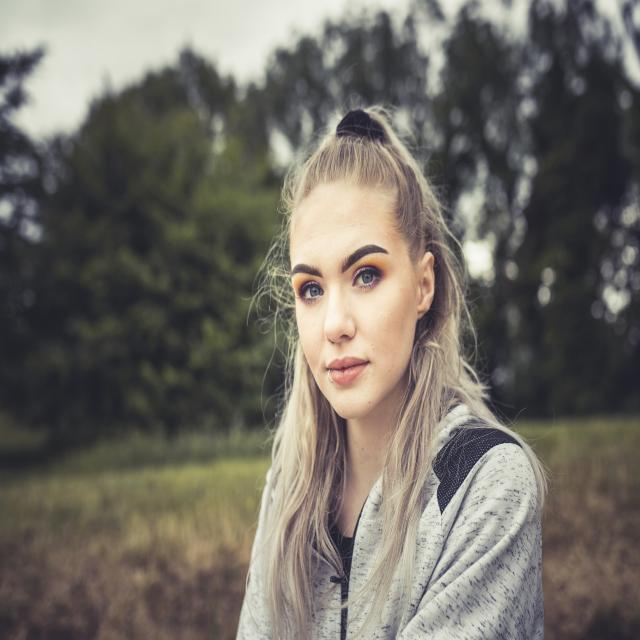adult: (243, 109, 552, 640)
